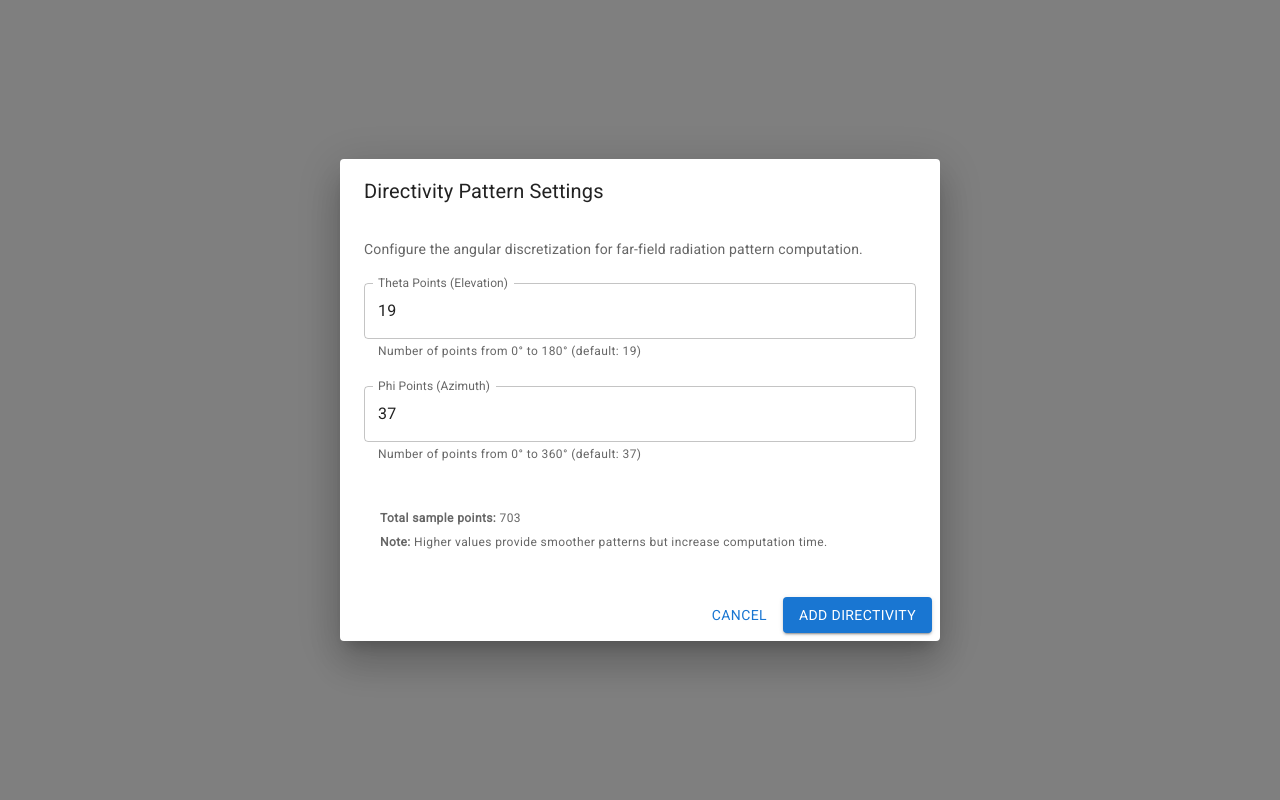
Scenario: DirectivitySettingsDialog › validates theta points range
This screenshot has width=1280, height=800.
// Test below minimum
Replace the text in the number field labelled "Theta Points (Elevation)" with "3" at (640, 311), box [364,283,916,339]
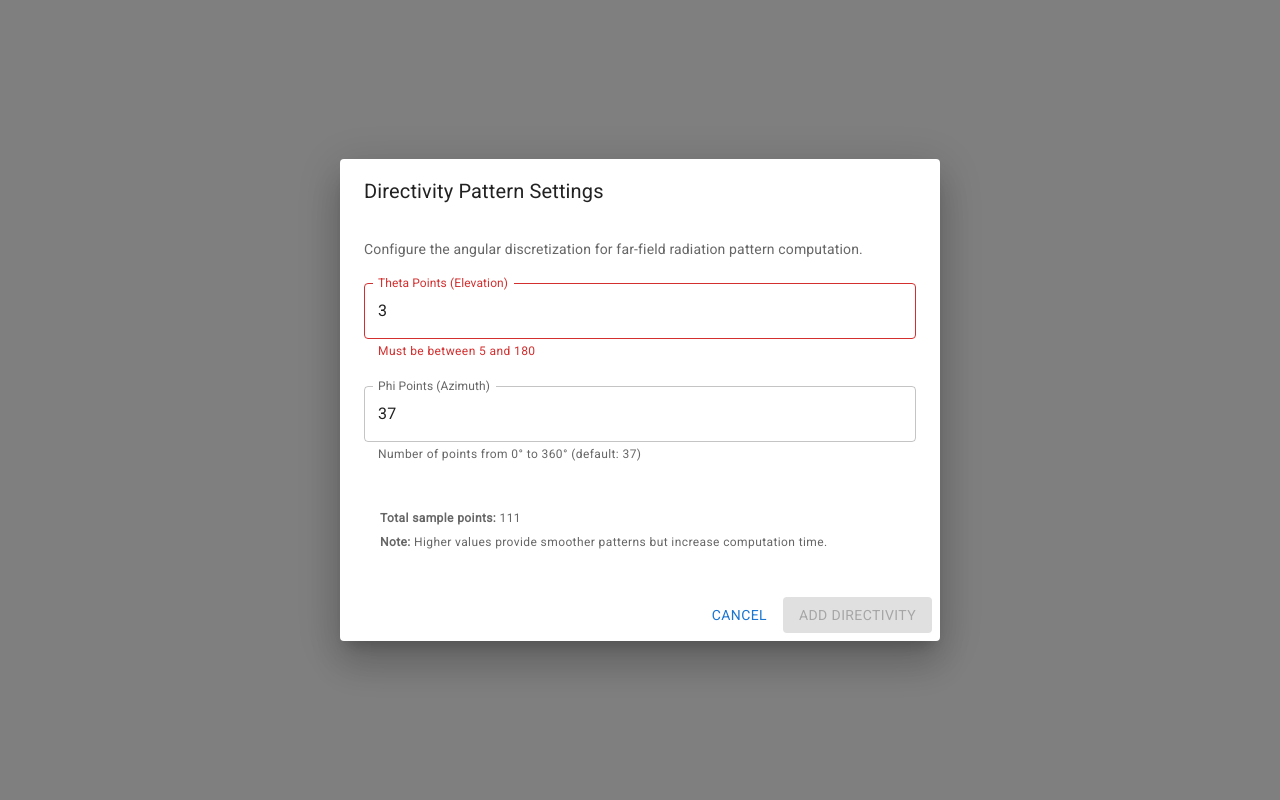
Result: the text "Must be between 5 and 180" is shown at [378,344,536,358]
Result: the button "Add Directivity" is disabled at [783,597,932,633]
// Test above maximum
Replace the text in the number field labelled "Theta Points (Elevation)" with "200" at (640, 311), box [364,283,916,339]
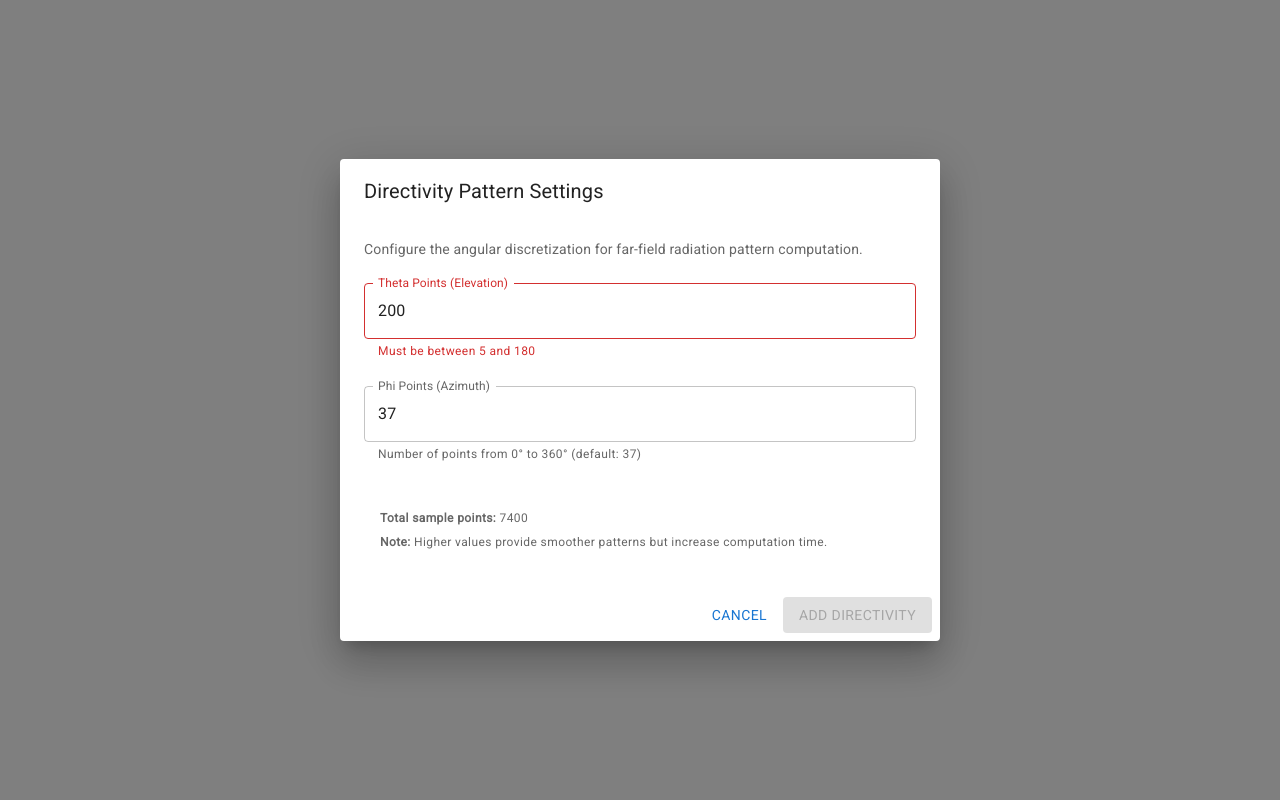
Result: the text "Must be between 5 and 180" is shown at [378,344,536,358]
// Test valid value
Replace the text in the number field labelled "Theta Points (Elevation)" with "50" at (640, 311), box [364,283,916,339]
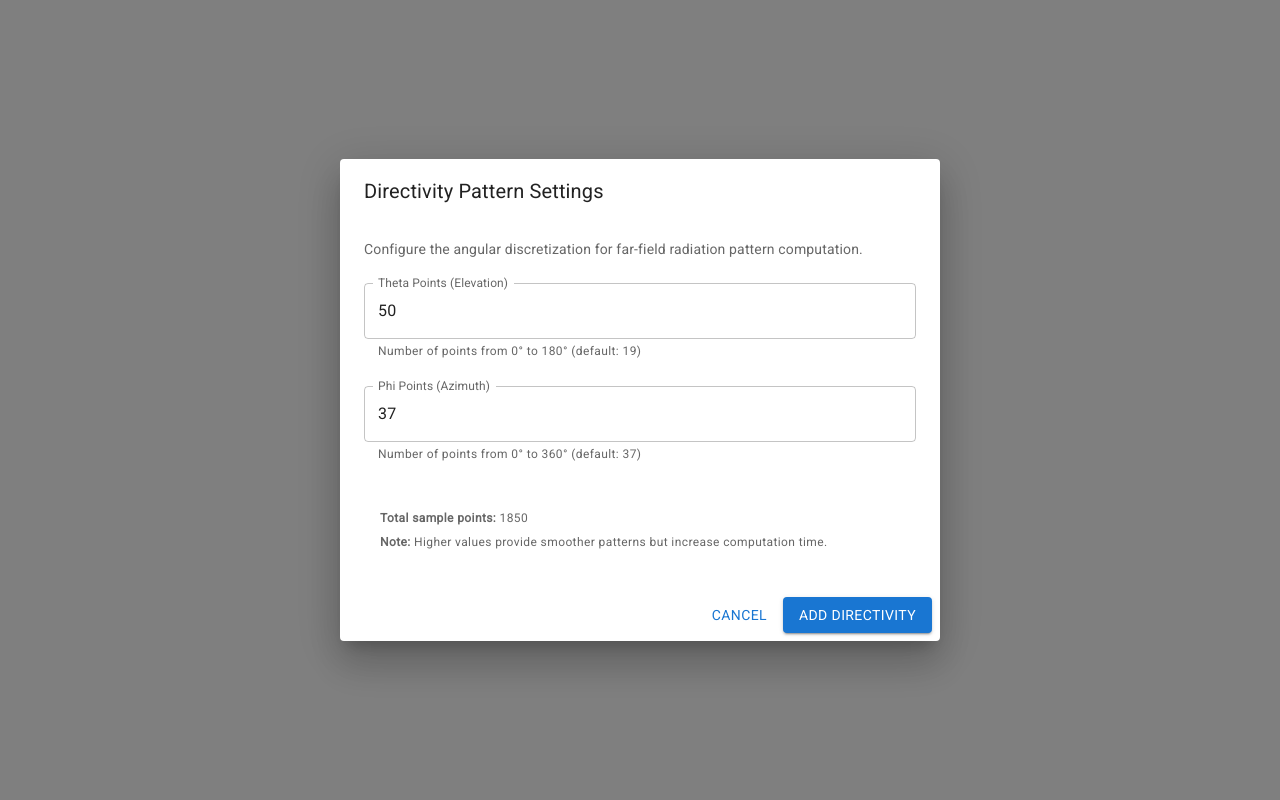
Result: the text "Must be between 5 and 180" is gone
